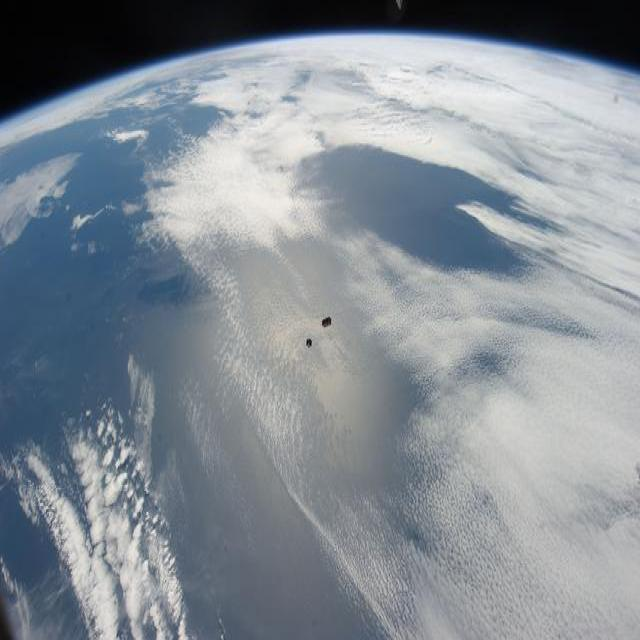satellite: (321, 316, 332, 328), (306, 339, 312, 347)
